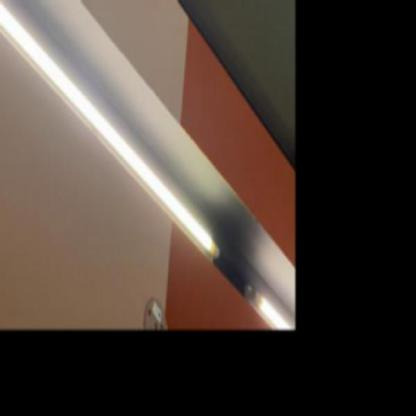light_on: (0, 0, 229, 283), (254, 268, 295, 330)
